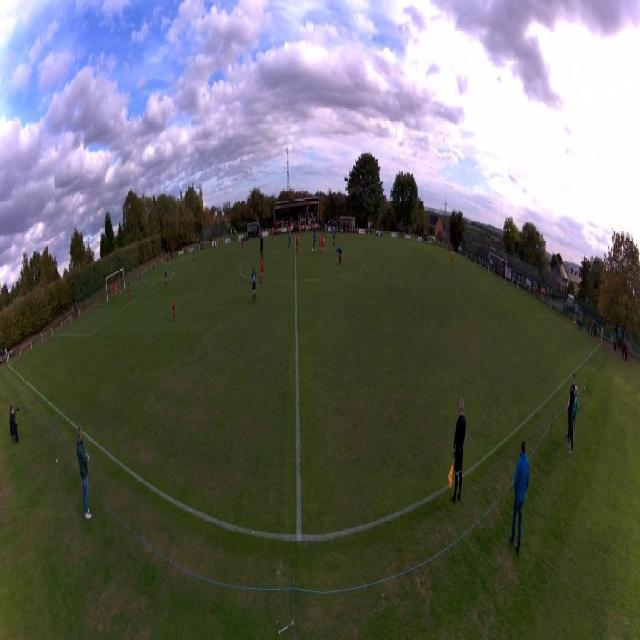ball: (120, 292, 121, 294)
player: (252, 266, 257, 303), (336, 247, 343, 265), (260, 254, 264, 284), (295, 233, 300, 254), (312, 230, 317, 251), (321, 234, 325, 256), (318, 233, 322, 255), (172, 301, 176, 322), (332, 228, 336, 246), (260, 235, 263, 257), (164, 265, 167, 286), (128, 283, 131, 304), (288, 229, 291, 248), (451, 251, 454, 268), (115, 282, 118, 297), (271, 228, 275, 239), (242, 237, 244, 256), (324, 223, 326, 240), (193, 248, 195, 262), (164, 256, 166, 266), (214, 242, 216, 251)
